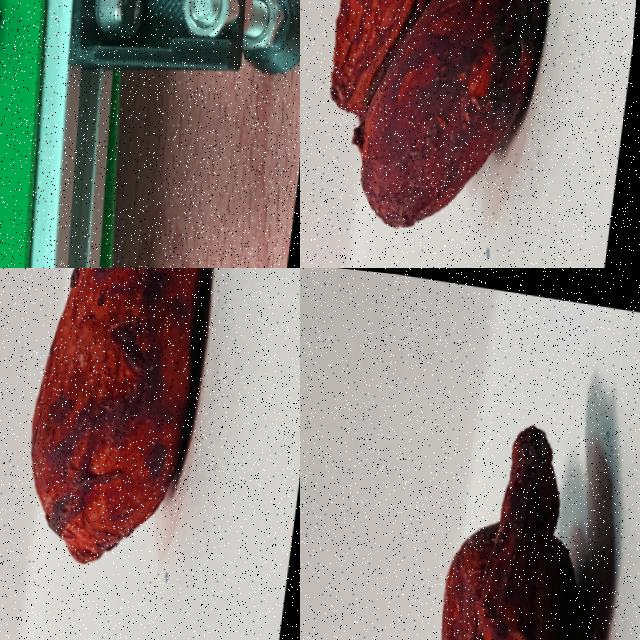Agglomerated_cocoabeans: (300, 0, 608, 267), (365, 344, 639, 639)
Fine_cocoabeans: (0, 268, 295, 639)
